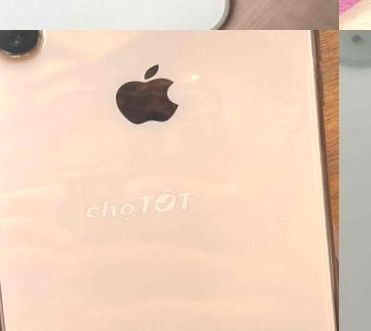scratch: (30, 30, 49, 48)
